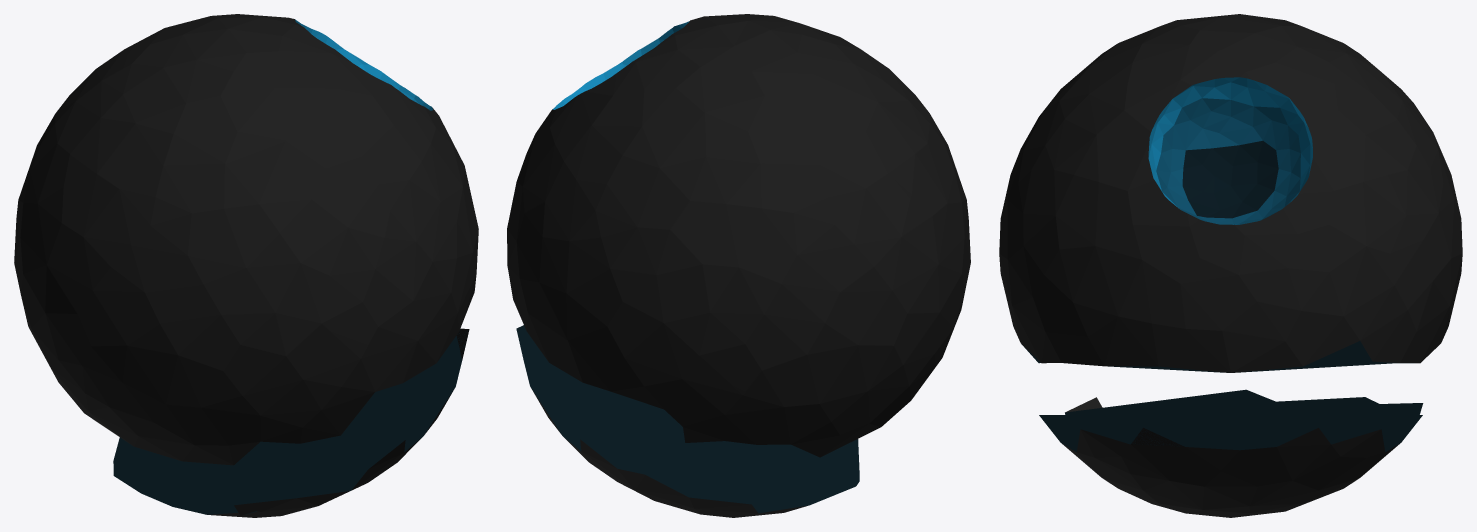
File: Planet15.glb
3 renders of one model, left to right at view 1: azimuth 30°, elevation 25°; view 2: azimuth 150°, elevation 25°; view 3: azimuth 270°, elevation 25°, orthographic.
Visible parts, largest first — view 1: Planet_15; view 2: Planet_15; view 3: Planet_15.
Boxes of the visible parts, x1,y1,x2,y2 form: Planet_15: (14, 14, 478, 517); Planet_15: (507, 14, 970, 517); Planet_15: (999, 14, 1462, 517).
Size of the model in its own units: 4.36 by 4.77 by 4.36.
